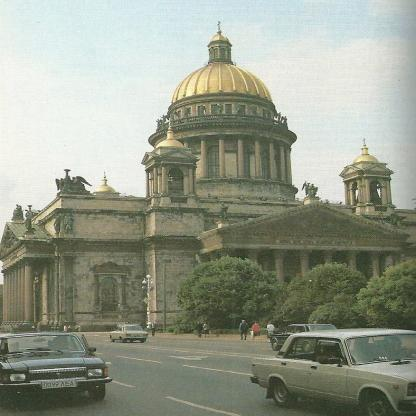Car: (248, 327, 416, 416), (12, 328, 114, 401), (270, 324, 338, 352), (114, 324, 154, 343)
